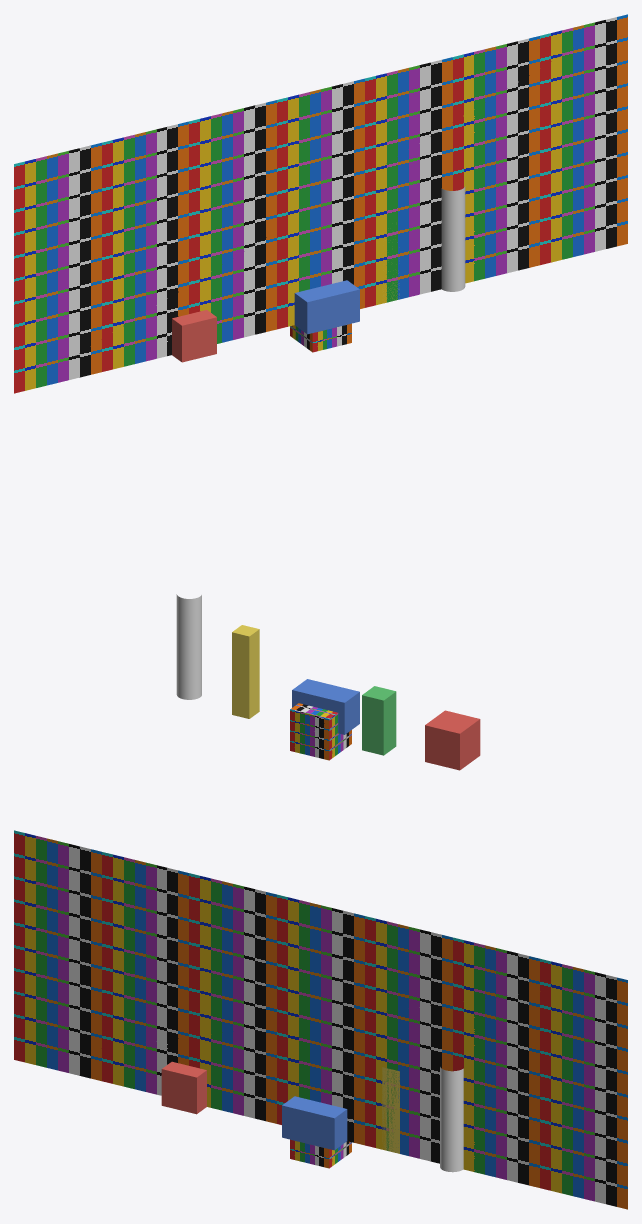
File: temporal_teleport.gltf
3 views of the same model, one above another, from view 1: azimuth 30°, elevation 25°; view 2: azimuth 150°, elevation 25°; view 3: azimuth 330°, elevation 25° (orthographic).
Visible parts, largest first — view 1: backdrop_wall, props, teleport_cube; view 2: props, teleport_cube; view 3: backdrop_wall, props, teleport_cube.
Boxes of the visible parts, <box> form: backdrop_wall: <box>14,14,627,393</box>; props: <box>172,186,465,362</box>; teleport_cube: <box>290,323,351,352</box>; props: <box>176,594,480,770</box>; teleport_cube: <box>290,703,351,760</box>; backdrop_wall: <box>14,830,627,1209</box>; props: <box>161,1061,463,1172</box>; teleport_cube: <box>290,1139,351,1168</box>.
Size of what is drawn, in the model's own units: 14 by 5.45 by 1.05.
6 materials, 1 textured.
